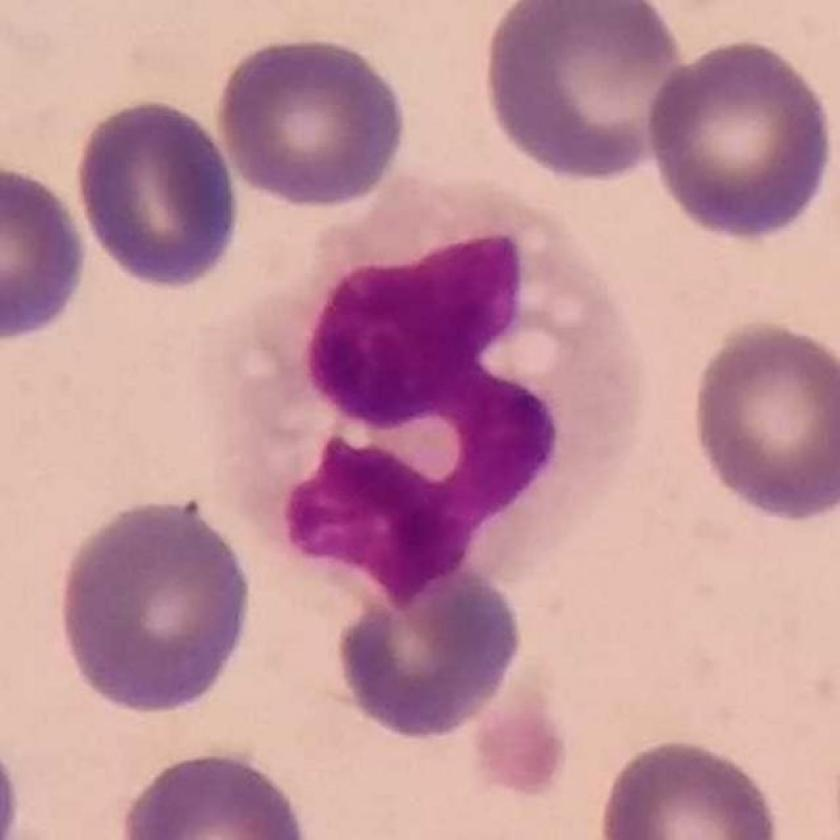monocyte: (203, 167, 651, 634)
